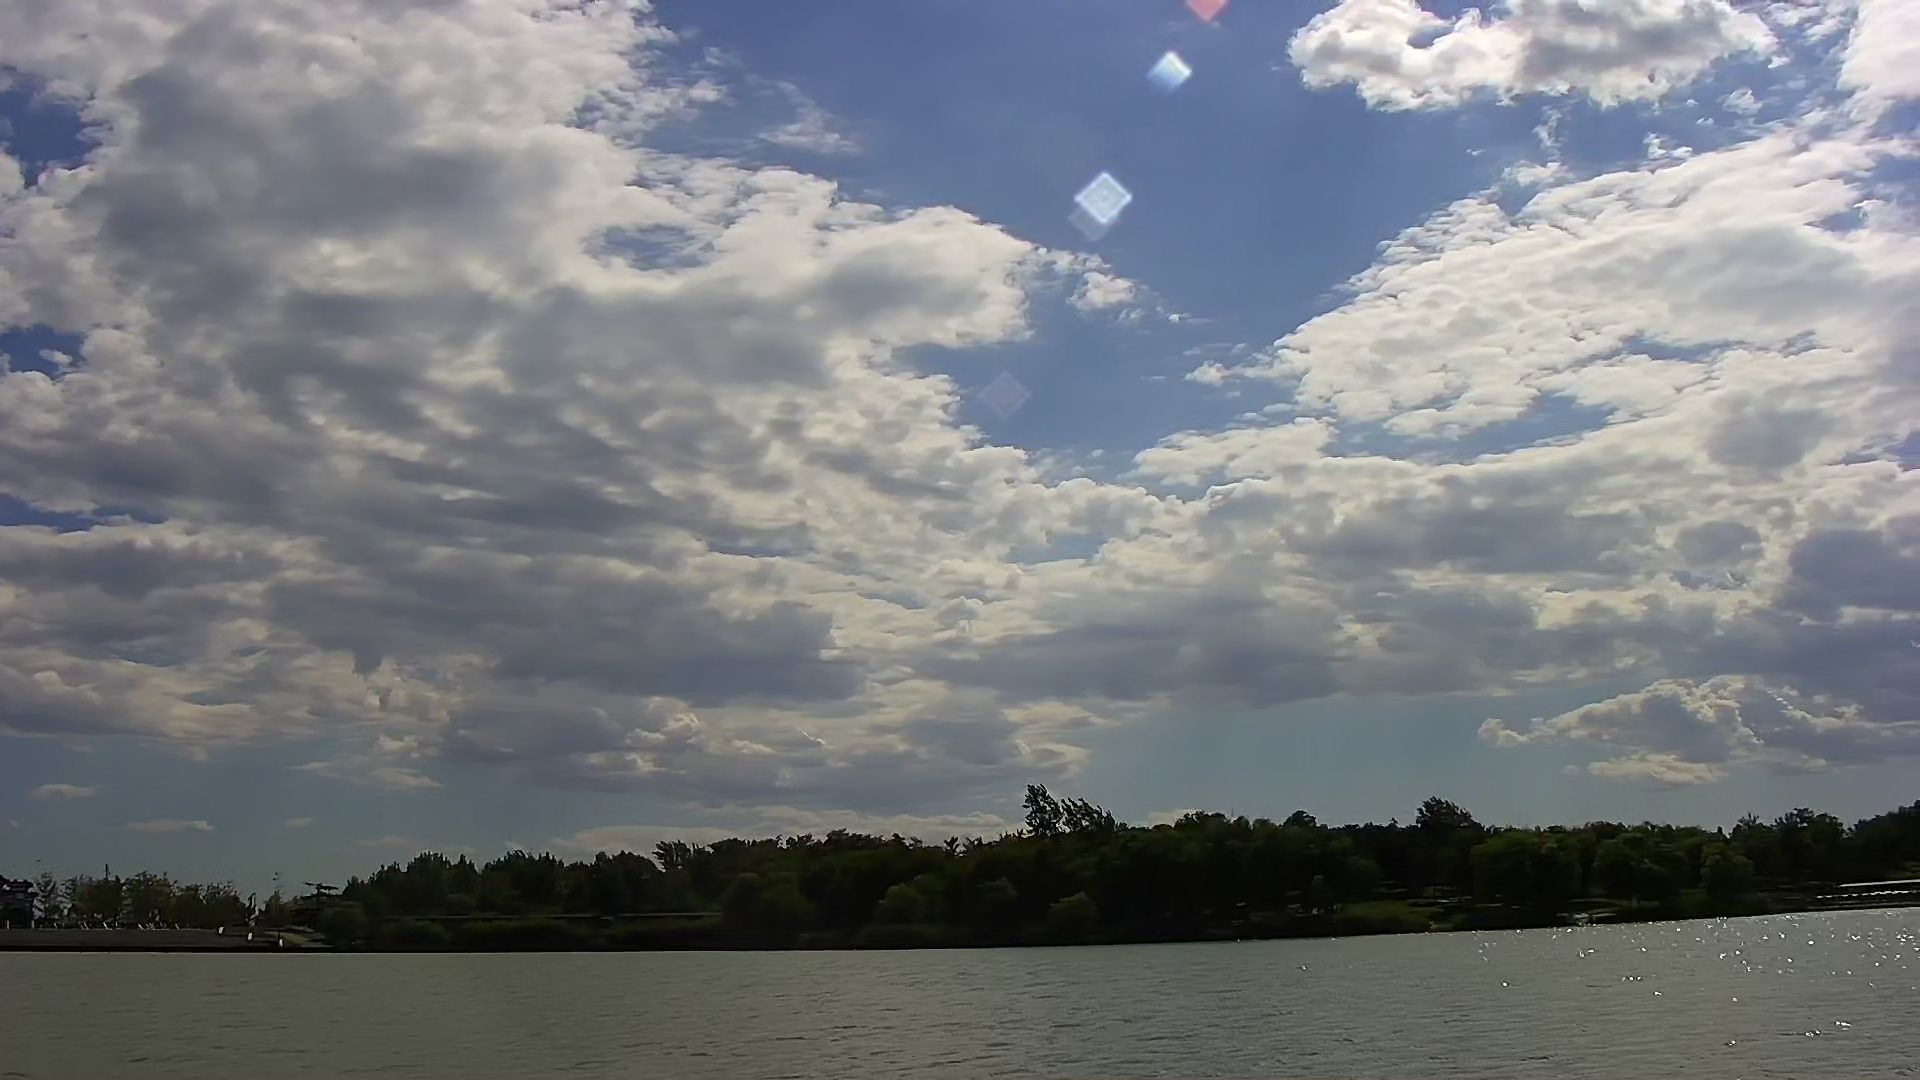harbor: (1844, 876, 1917, 913)
